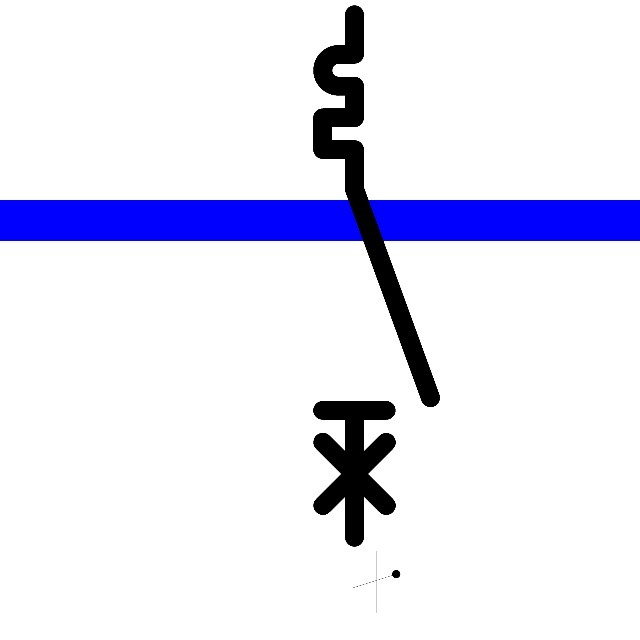interruptor_termomagnetico: (309, 1, 443, 551)
